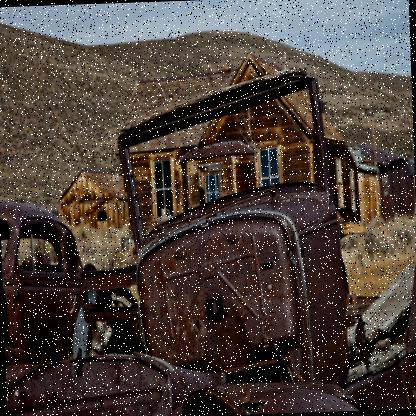Car: (0, 192, 134, 366)
